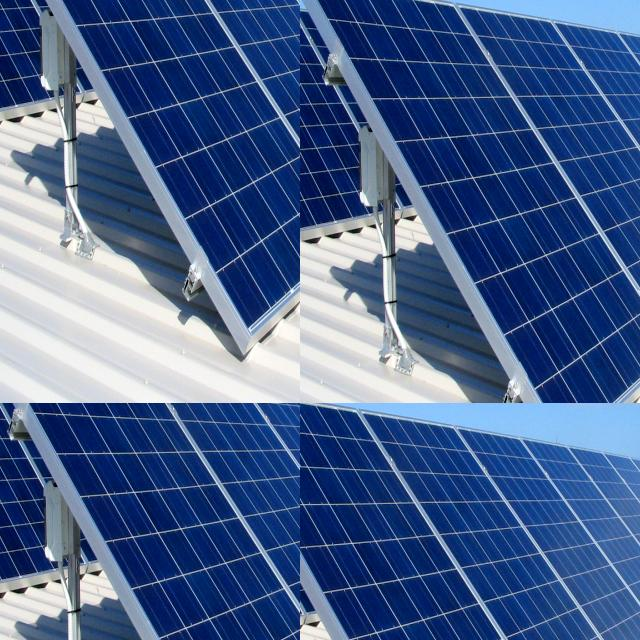crack: (150, 94, 256, 255), (10, 267, 136, 392), (100, 263, 220, 392), (192, 220, 294, 344), (470, 478, 562, 585), (0, 170, 82, 289), (87, 152, 165, 269), (410, 444, 498, 528), (53, 108, 138, 192), (183, 26, 280, 94), (8, 0, 84, 70), (513, 572, 588, 640), (343, 517, 401, 601), (589, 515, 640, 600), (0, 110, 47, 200), (322, 528, 376, 602), (372, 522, 422, 596), (396, 528, 445, 597), (49, 0, 102, 63), (418, 570, 468, 632), (310, 494, 356, 558), (353, 580, 402, 640), (0, 5, 33, 91), (434, 597, 494, 640), (334, 492, 374, 556), (300, 495, 332, 564), (623, 494, 640, 600), (300, 424, 329, 476), (408, 605, 448, 640), (377, 615, 430, 640), (121, 0, 161, 24)
